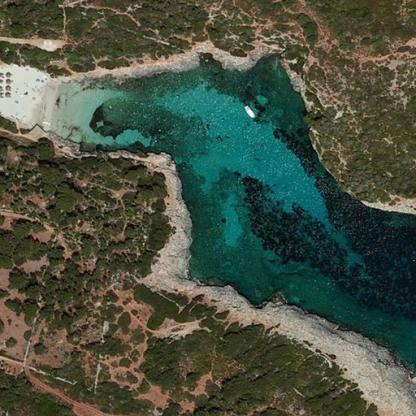ship: (242, 104, 257, 119)
